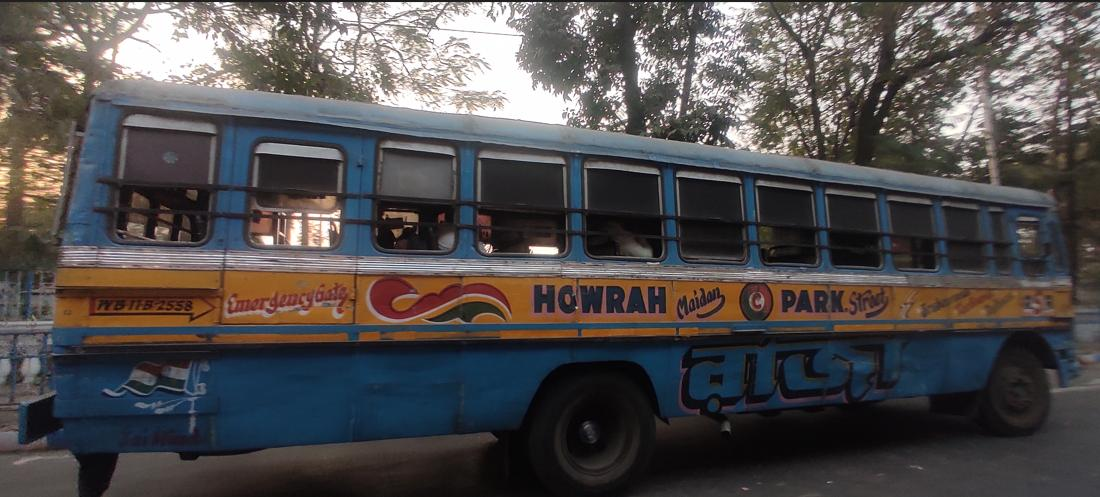Bus: (49, 77, 1078, 478)
